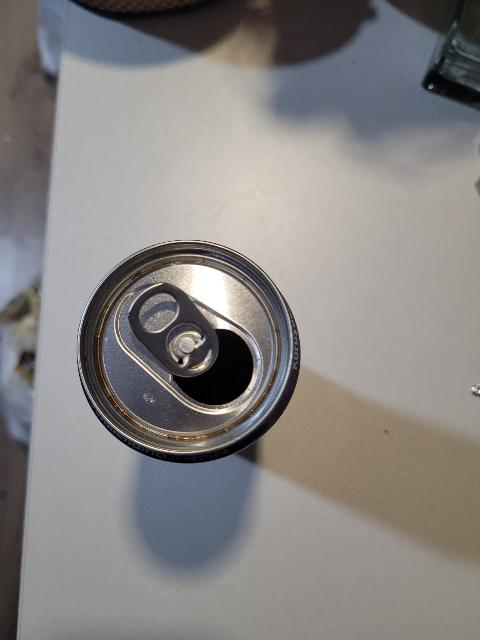Metal: (74, 238, 320, 489)
